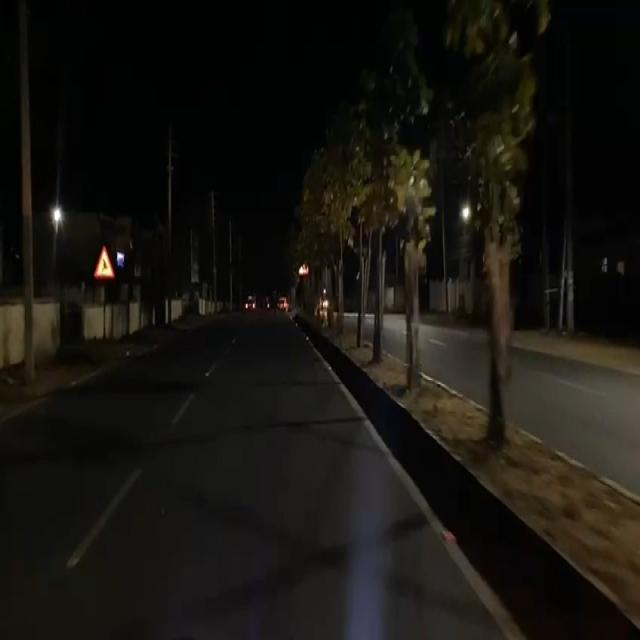bien_cam: (93, 244, 115, 280)
